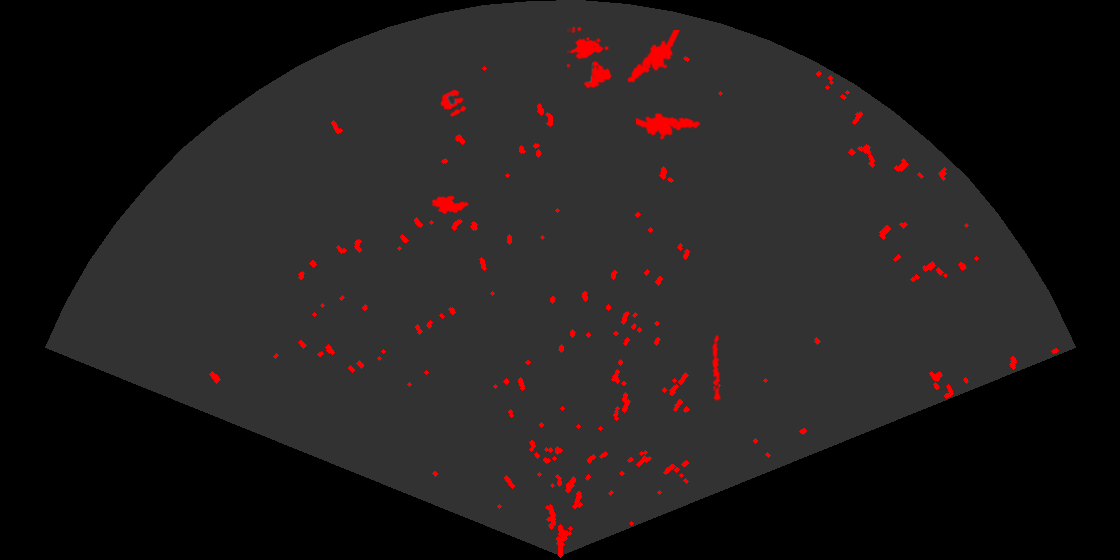AUV: (430, 194, 471, 216)
ball: (439, 88, 468, 118)
cage: (567, 27, 613, 90)
chain: (710, 333, 722, 401)
frogman: (626, 30, 682, 84), (636, 111, 702, 141)
